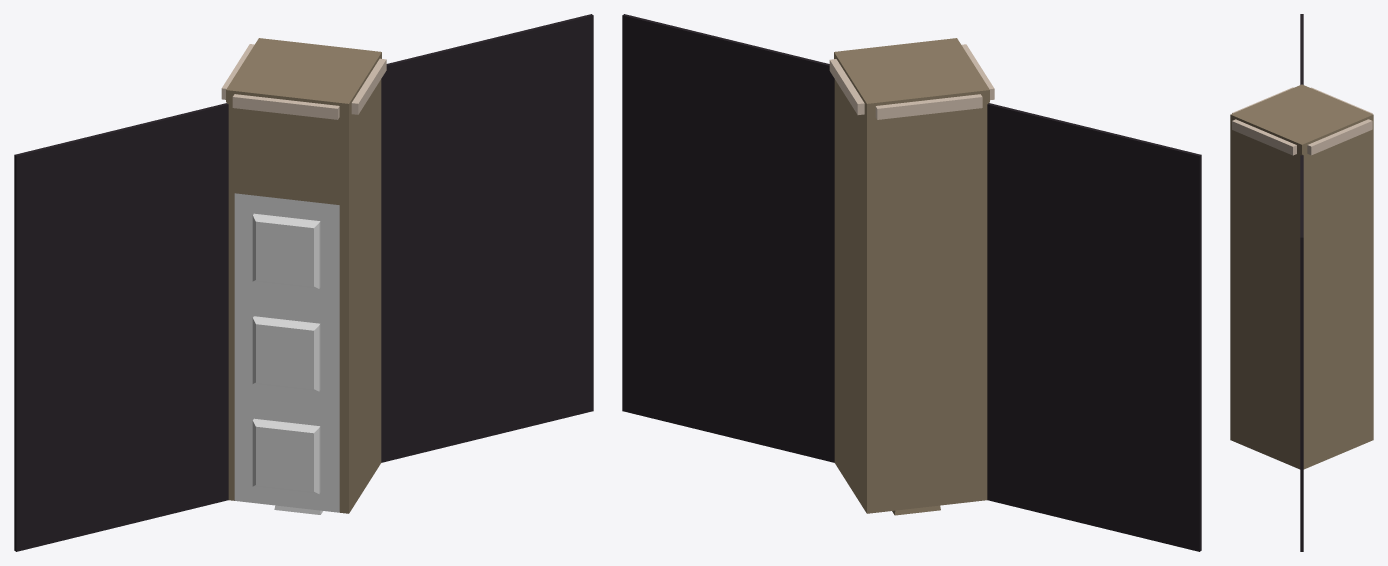
The model's file is lemur.glb.
3 renders of one model, left to right at view 1: azimuth 30°, elevation 25°; view 2: azimuth 150°, elevation 25°; view 3: azimuth 270°, elevation 25°, orthographic. The views are drawn at different scales.
Visible parts, largest first — view 1: Cylinder; view 2: Cylinder; view 3: Cylinder.
Boxes of the visible parts, <box> form: Cylinder: <box>14,14,593,551</box>; Cylinder: <box>622,14,1201,551</box>; Cylinder: <box>1230,14,1373,551</box>.
Size of the model in its own units: 7.4 by 5.29 by 2.
